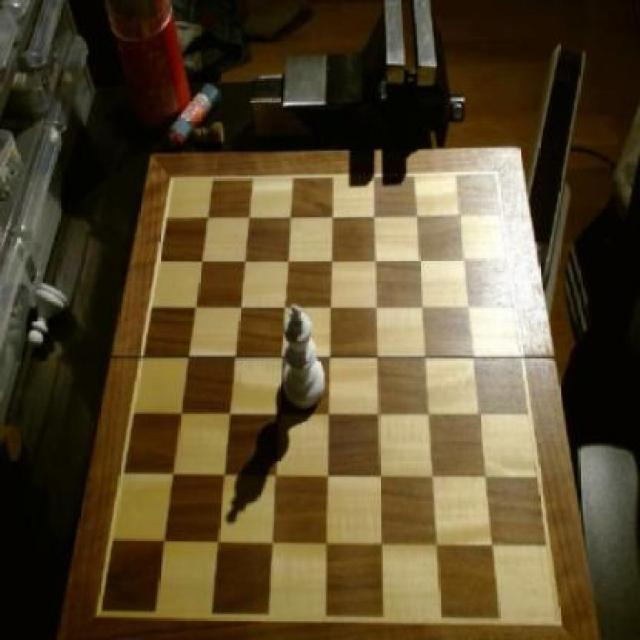white-bishop: (283, 300, 329, 415)
